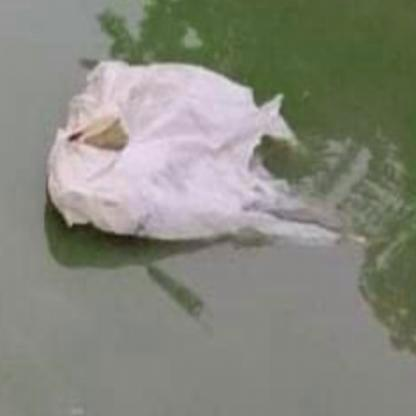Trash: (45, 56, 337, 241)
